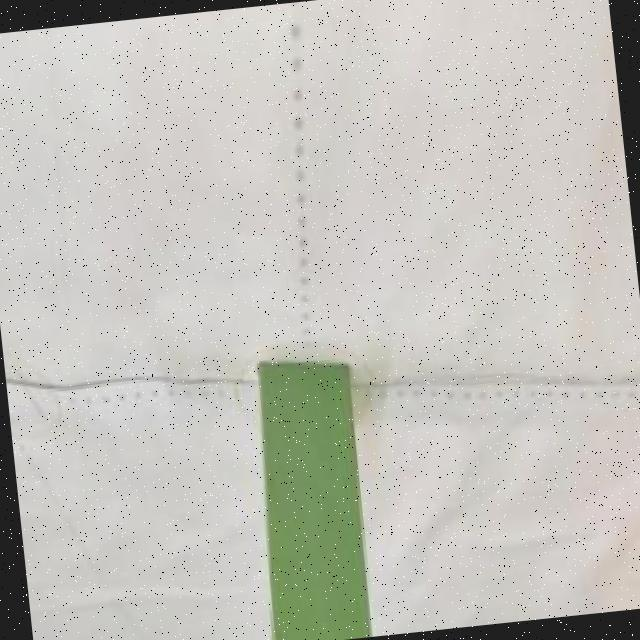greenbox: (232, 359, 382, 640)
